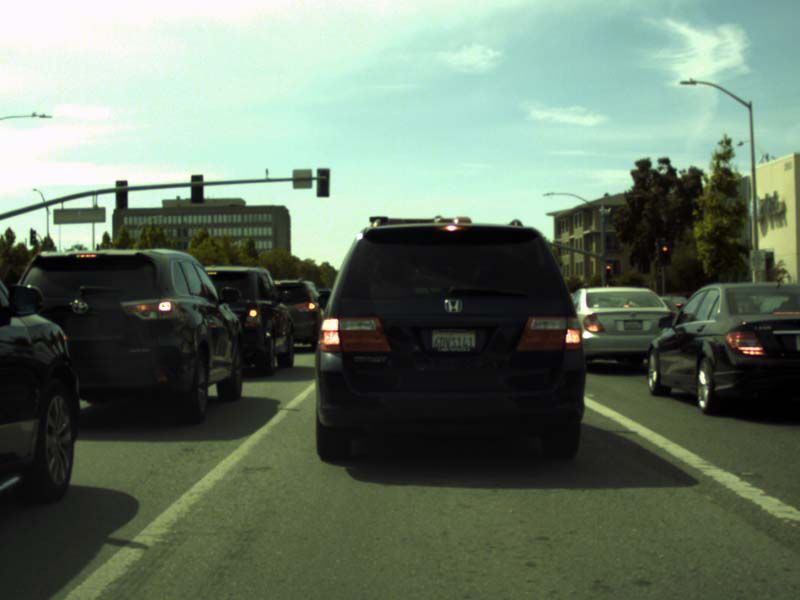Red: (660, 243, 668, 264), (605, 263, 611, 278)
